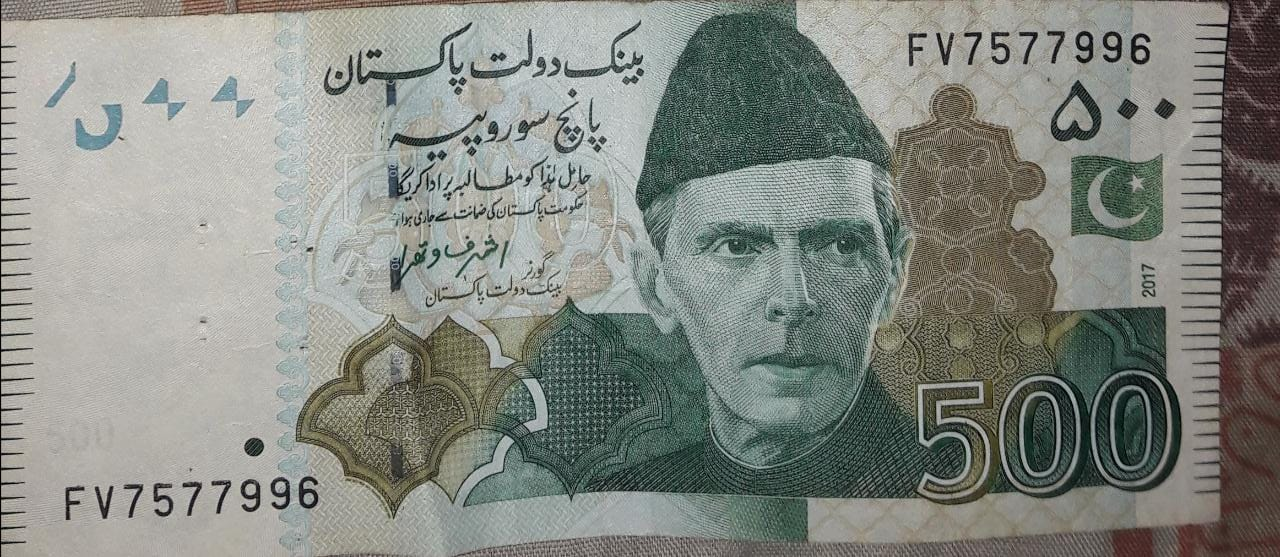500 rupee: (8, 10, 1227, 557)
